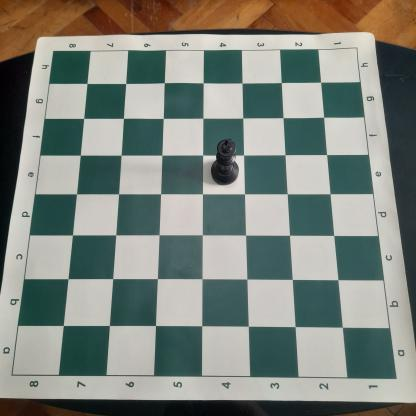black-king: (209, 137, 240, 186)
